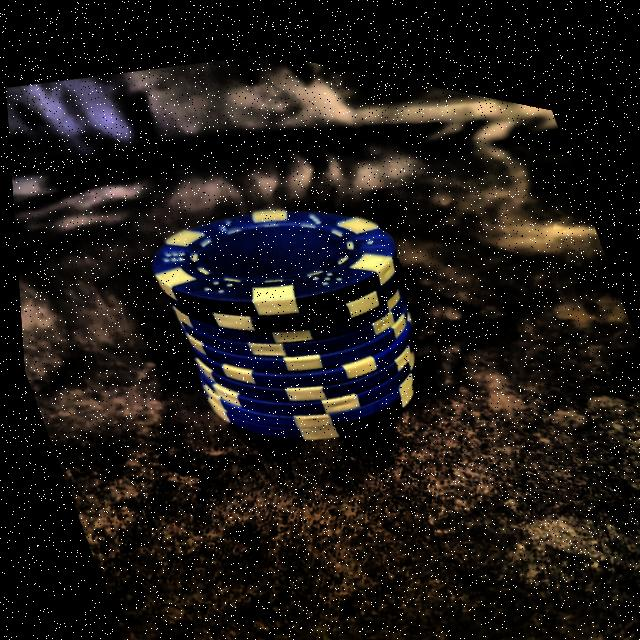Chip: (106, 127, 472, 498)
